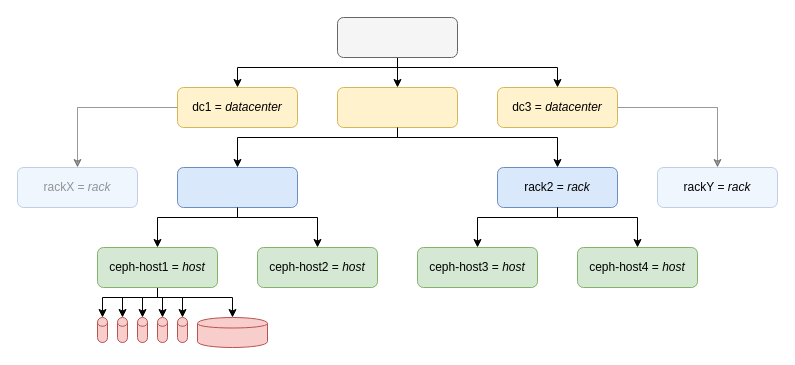
The diagram is 795 pixels wide and 365 high, and some of its shapes have lost their labels. The shapes that lost their labels are listed below. From the top down, each one's box as (x1, y1, x2, y2) in pixels, then its label:
(336, 16, 458, 58): default = root
(336, 86, 458, 128): dc2 = datacenter
(176, 166, 298, 208): rack1 = rack
(196, 316, 268, 348): osd0 = osd
